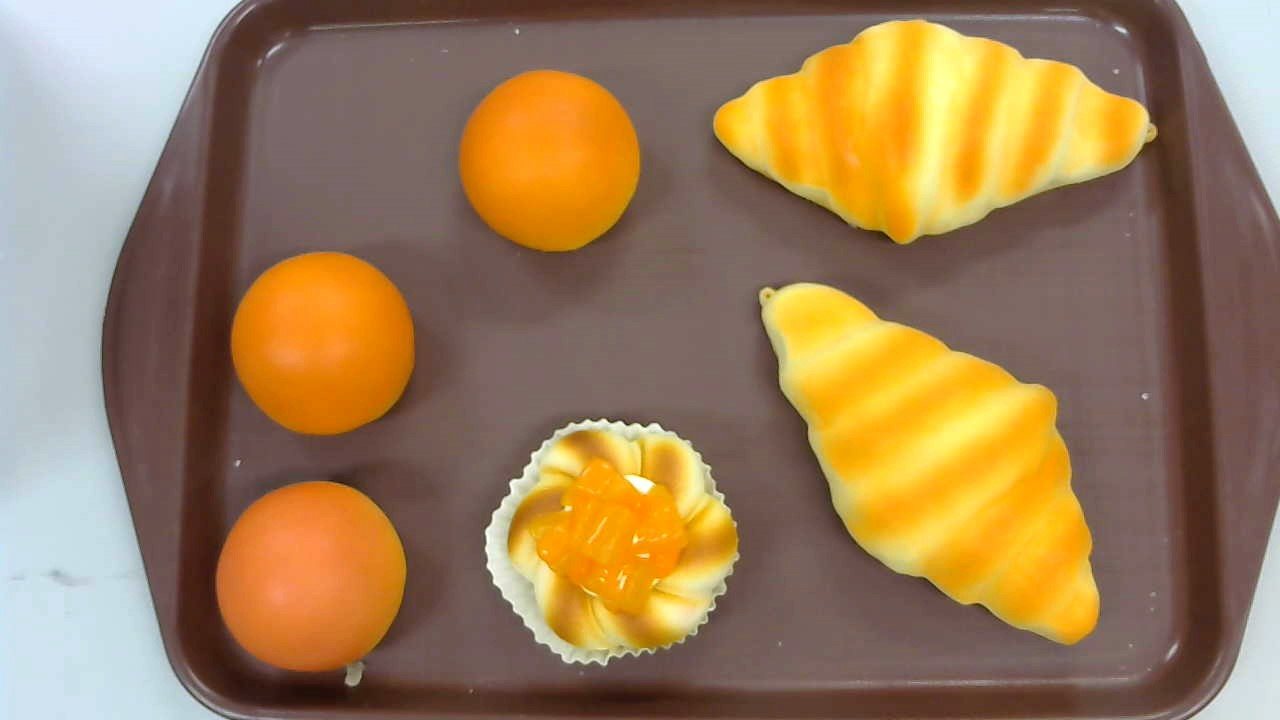bun: (216, 481, 406, 673), (230, 251, 415, 437), (460, 69, 639, 252)
croissant: (758, 282, 1101, 646), (713, 19, 1157, 247)
mango tart: (485, 415, 743, 667)
